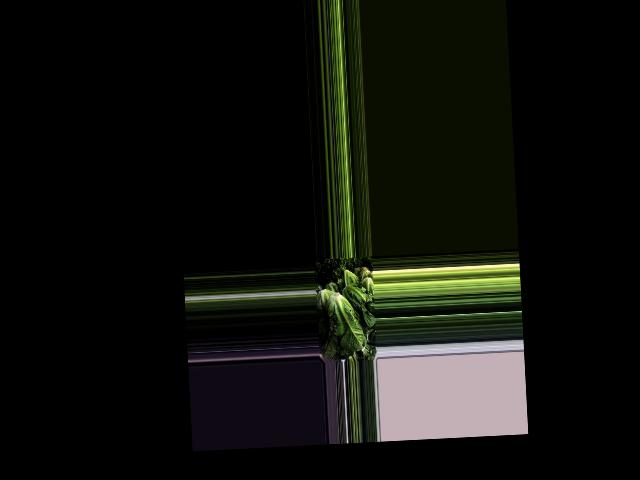lettuce: (342, 282, 373, 330)
